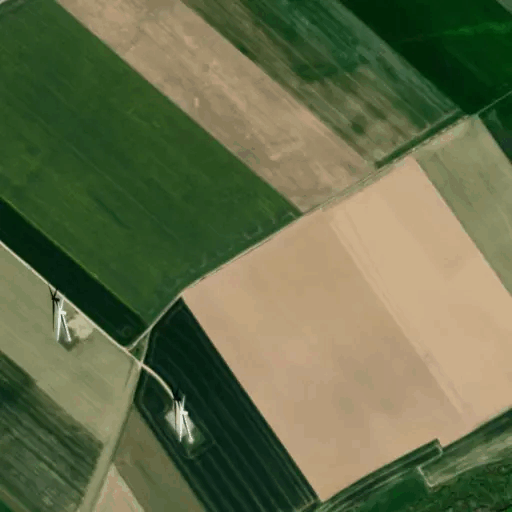wt: (46, 281, 75, 347), (170, 388, 200, 448)
